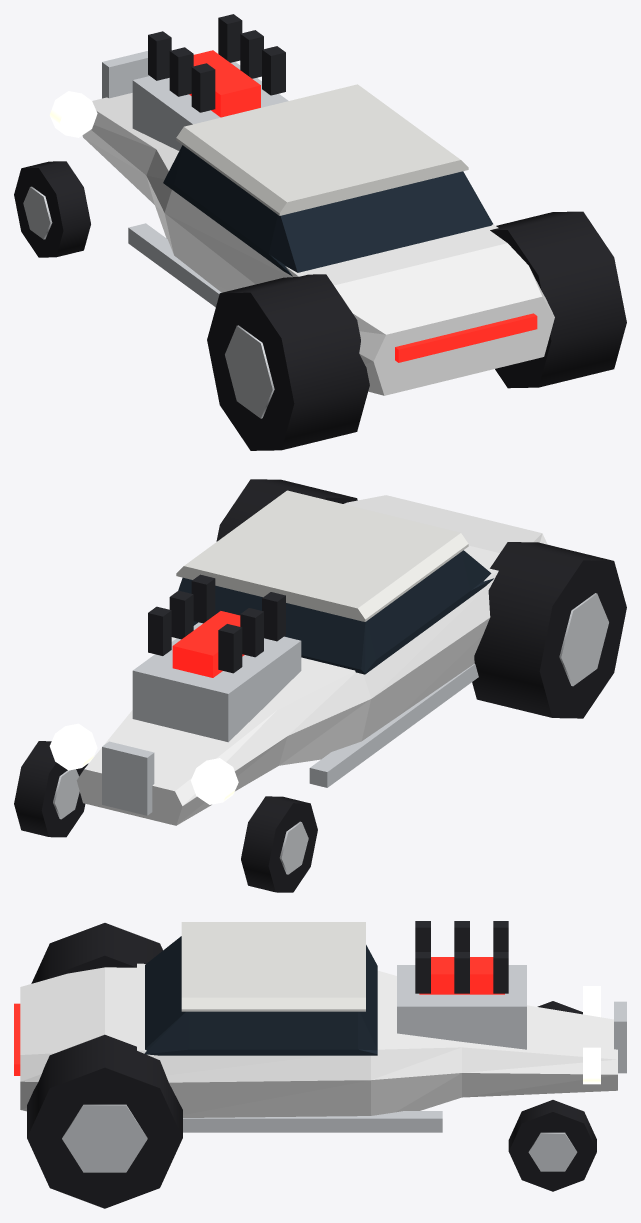
File: hotrod.glb
The picture shows the model from 3 angles, top to bottom: view 1: azimuth 30°, elevation 25°; view 2: azimuth 150°, elevation 25°; view 3: azimuth 270°, elevation 25°; orthographic projection. The views are drawn at different scales.
Parts seen in each view (by area): view 1: wheel (×3), object 1, object 3, object 2, wheel-hub (×2), object 4, object 25, object 5, object 9, object 14, object 24, object 8 (+5 smaller); view 2: object 1, wheel (×4), object 3, object 2, object 4, wheel-hub (×3), object 9, object 24, object 5, object 14, object 23, object 6 (+5 smaller); view 3: object 1, wheel (×3), object 3, object 2, object 4, wheel-hub (×2), object 18, object 5, object 24, object 23, object 15, object 16 (+6 smaller).
Boxes of the visible parts, x1,y1,x2,y2 form: wheel (×3): [14, 161, 626, 450]; object 1: [82, 93, 554, 395]; object 3: [176, 84, 468, 215]; object 2: [163, 145, 492, 276]; wheel-hub (×2): [23, 186, 274, 418]; object 4: [132, 62, 288, 150]; object 25: [395, 313, 537, 362]; object 5: [189, 50, 260, 117]; object 9: [128, 223, 221, 307]; object 14: [49, 91, 97, 137]; object 24: [102, 51, 149, 98]; object 8: [191, 63, 215, 112]; object 1: [76, 495, 547, 825]; wheel (×4): [14, 479, 626, 892]; object 3: [176, 490, 468, 621]; object 2: [178, 550, 493, 674]; object 4: [132, 622, 301, 742]; wheel-hub (×3): [53, 593, 608, 874]; object 9: [309, 663, 478, 787]; object 24: [102, 741, 154, 815]; object 5: [172, 611, 244, 677]; object 14: [190, 758, 238, 804]; object 23: [49, 723, 97, 770]; object 6: [218, 624, 242, 673]; object 1: [20, 963, 617, 1117]; wheel (×3): [27, 923, 596, 1208]; object 3: [181, 922, 365, 1011]; object 2: [144, 936, 377, 1055]; object 4: [397, 965, 526, 1049]; wheel-hub (×2): [62, 1104, 577, 1172]; object 18: [183, 1111, 442, 1132]; object 5: [419, 957, 504, 994]; object 24: [614, 1001, 626, 1073]; object 23: [583, 1047, 600, 1084]; object 15: [493, 952, 508, 993]; object 16: [454, 952, 469, 993].
Bounding box in the file's own units: 2.67 × 1.67 × 4.72.
